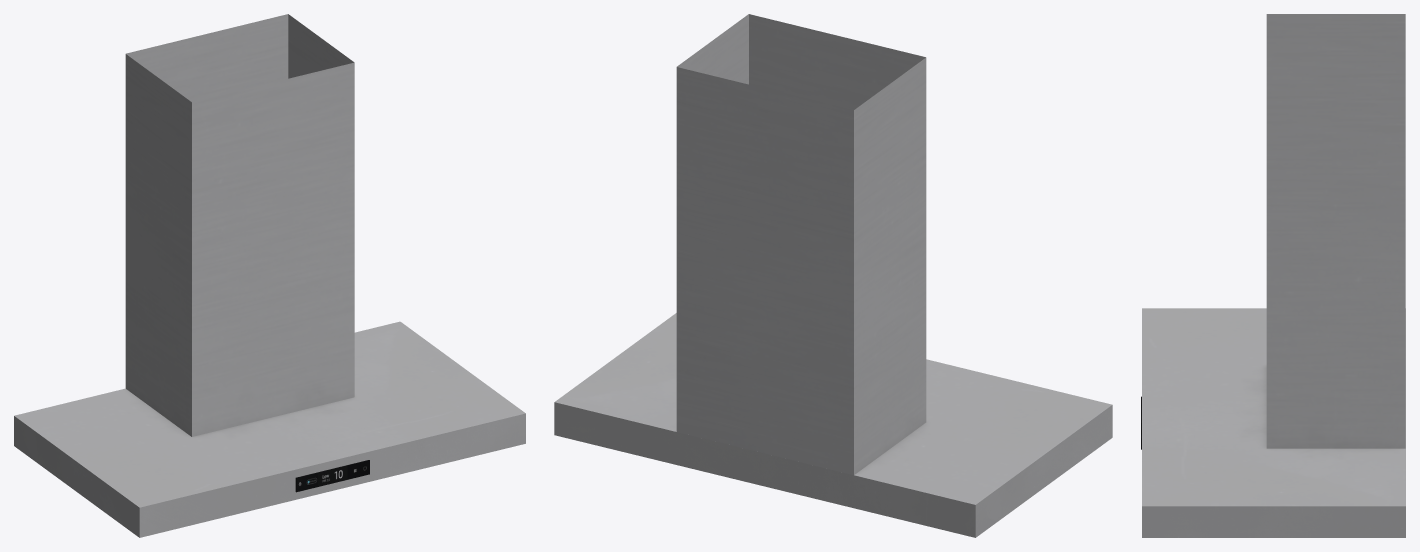
Rendered from stove_top_vent_hood.fbx.
The picture shows the model from 3 angles, left to right: view 1: azimuth 30°, elevation 25°; view 2: azimuth 150°, elevation 25°; view 3: azimuth 270°, elevation 25°; orthographic projection. The views are drawn at different scales.
Parts seen in each view (by area): view 1: stove_top_vent_hood; view 2: stove_top_vent_hood; view 3: stove_top_vent_hood.
Boxes of the visible parts, box(x1,y1,x2,y2) form: stove_top_vent_hood: box(14, 14, 525, 537); stove_top_vent_hood: box(554, 14, 1112, 537); stove_top_vent_hood: box(1141, 14, 1405, 537).
Bounding box in the file's own units: 108 × 97.47 × 61.01.
